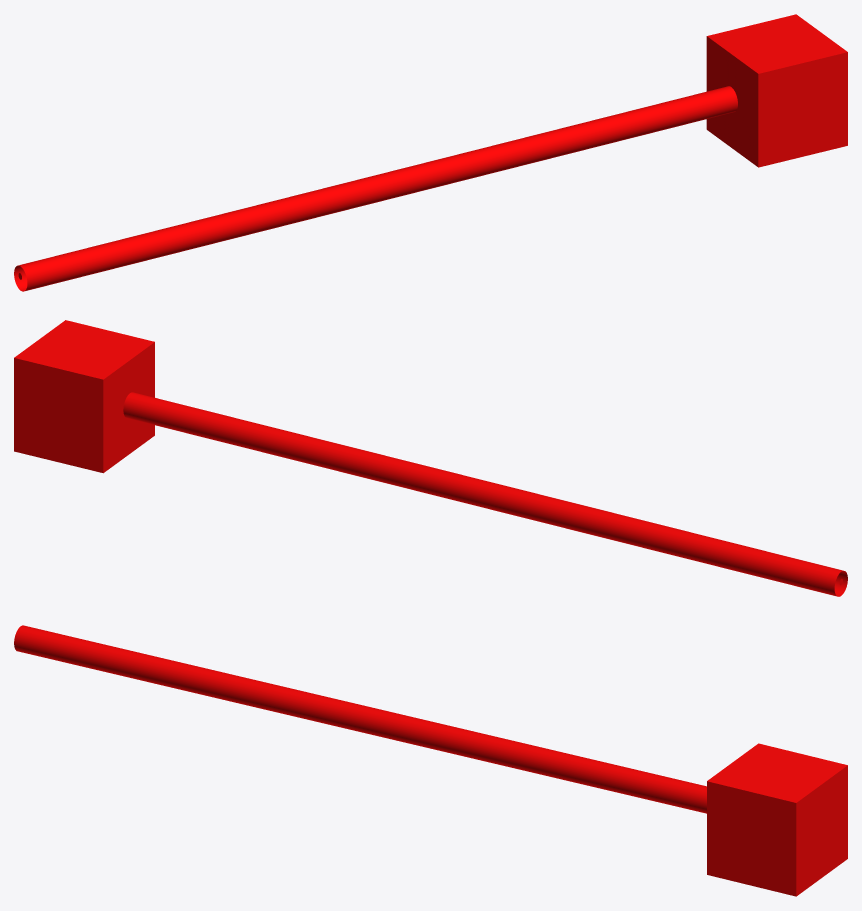
Rendered from xScale.obj.
3 views of the same model, one above another, from view 1: azimuth 30°, elevation 25°; view 2: azimuth 150°, elevation 25°; view 3: azimuth 330°, elevation 25° (orthographic).
Size of the model in its own units: 80.36 by 8.97 by 8.97.
